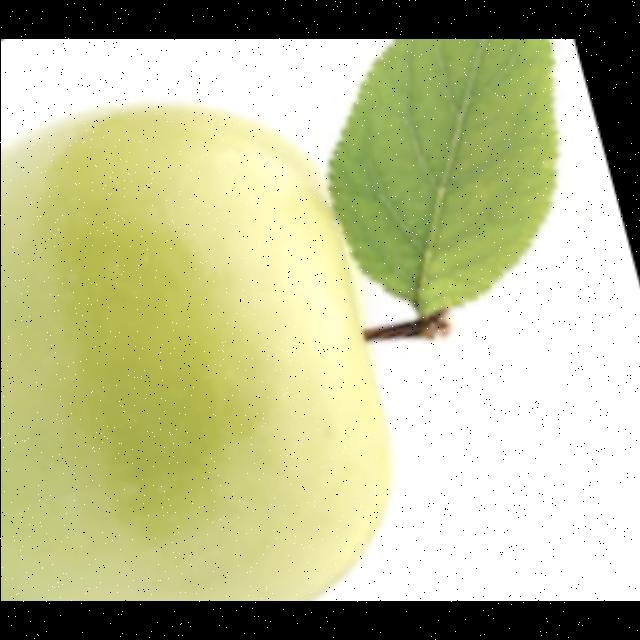Apel Segar: (0, 97, 398, 601)
